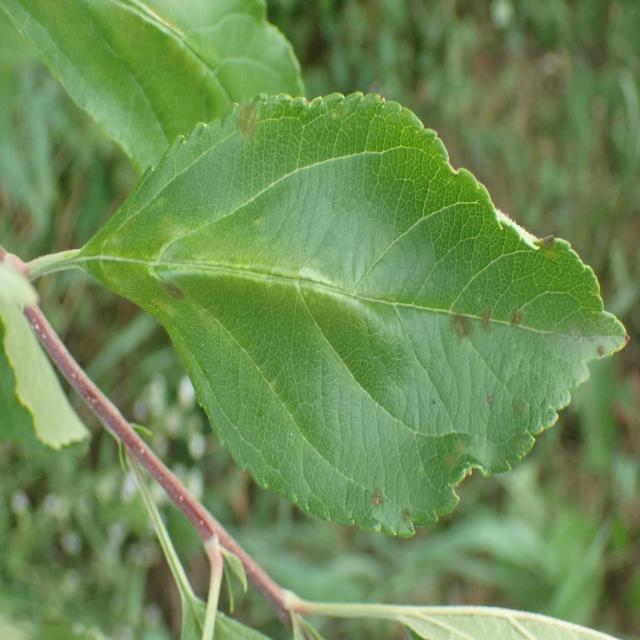scab: (356, 212, 637, 565), (216, 89, 299, 175), (152, 228, 203, 351)
